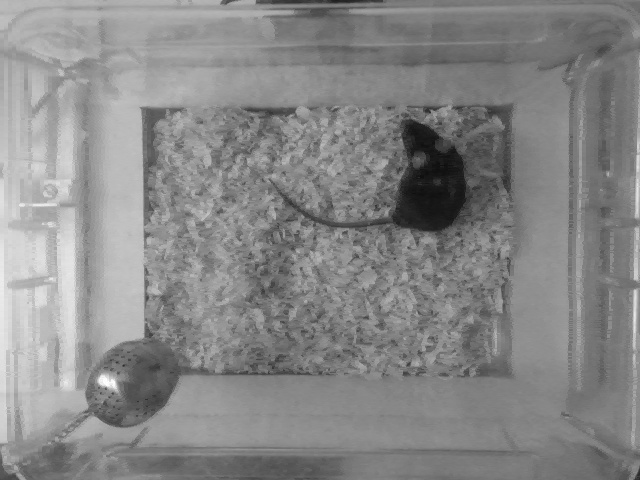mice: (266, 116, 469, 230)
